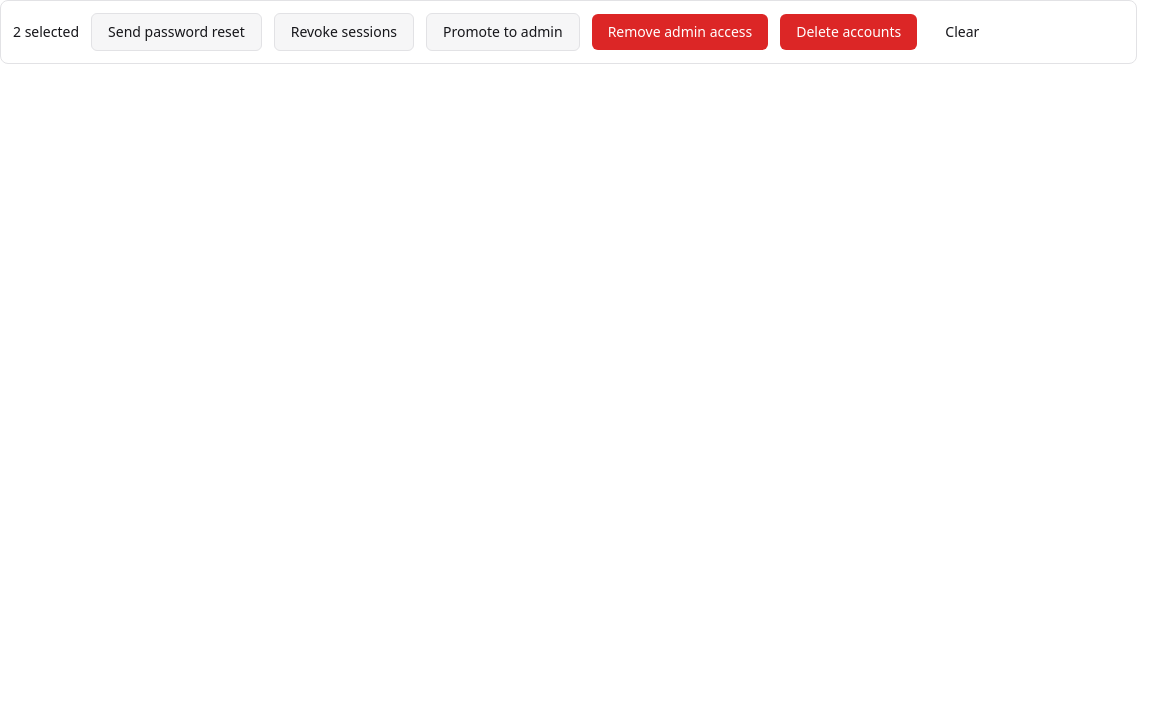
UserBulkActions › confirms before promoting, listing the affected accounts
Check: the text "2 selected" is shown, box [13,22,79,42]
What coordinates should you click on to do the following:
click the button "Promote to admin"
I would click on:
 (503, 32)
Its box is [426,13,580,51].
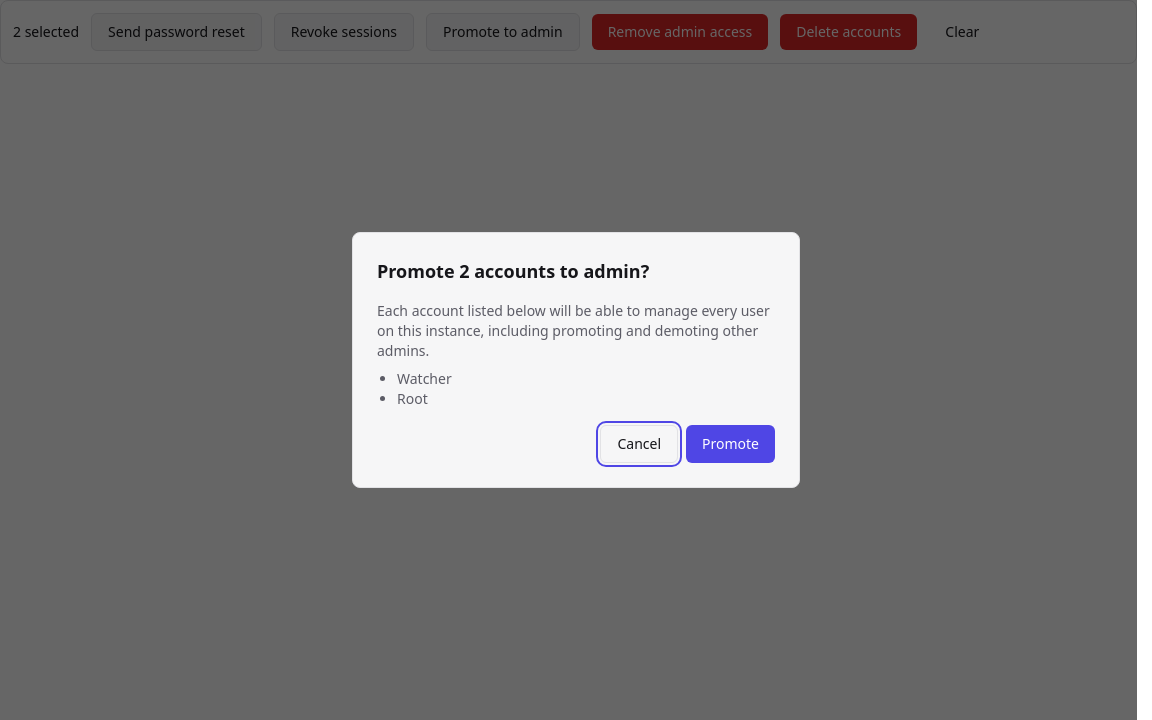
Check: the list item "Watcher" is shown, box [397,369,452,388]
Check: the list item "Root" is shown, box [397,389,428,408]
What coordinates should you click on to do the following:
click the button "Promote"
I would click on:
 (730, 444)
Its box is [686,425,775,463].
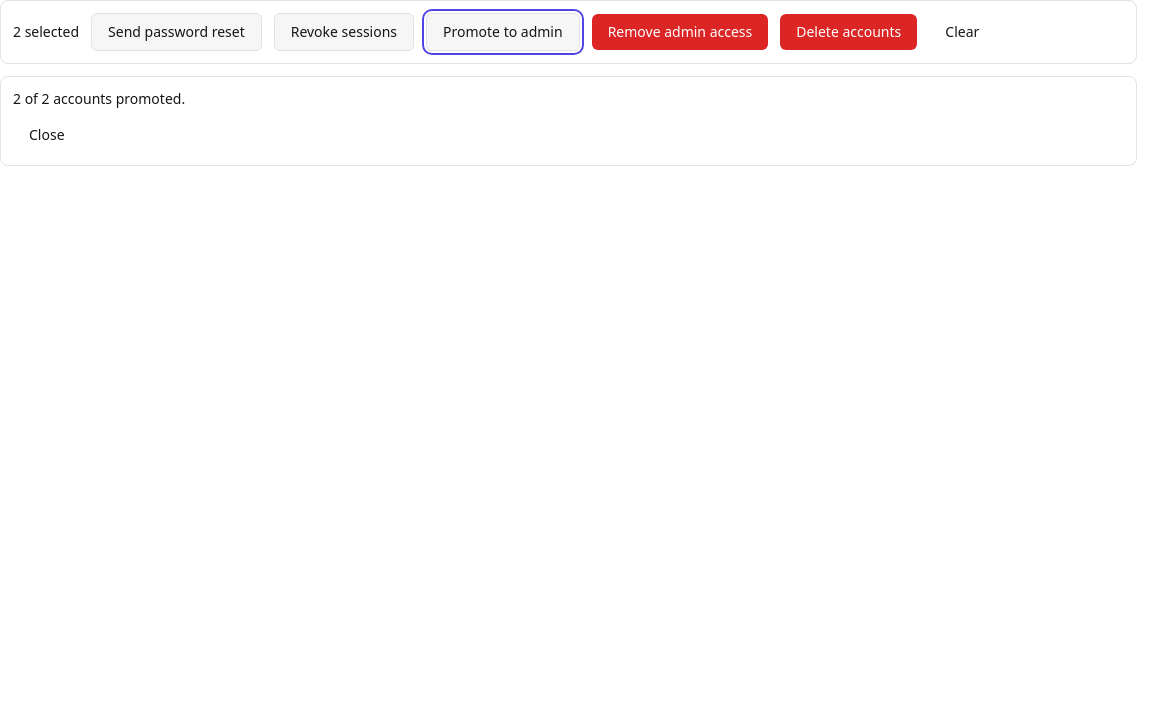
Check: the text "2 of 2 accounts promoted." is shown, box [13,89,185,108]
